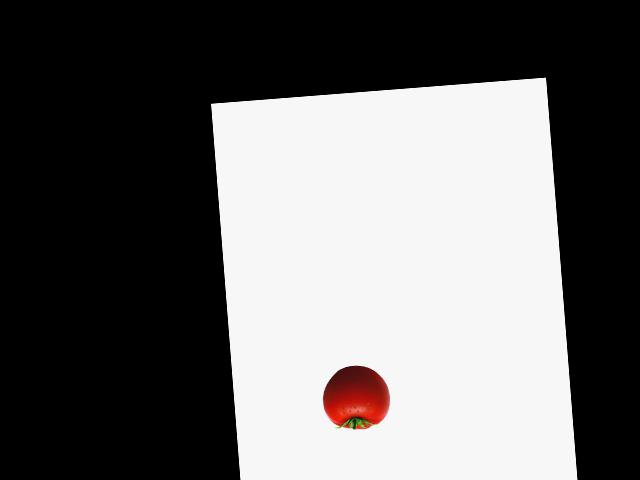tomato: (320, 363, 384, 432)
